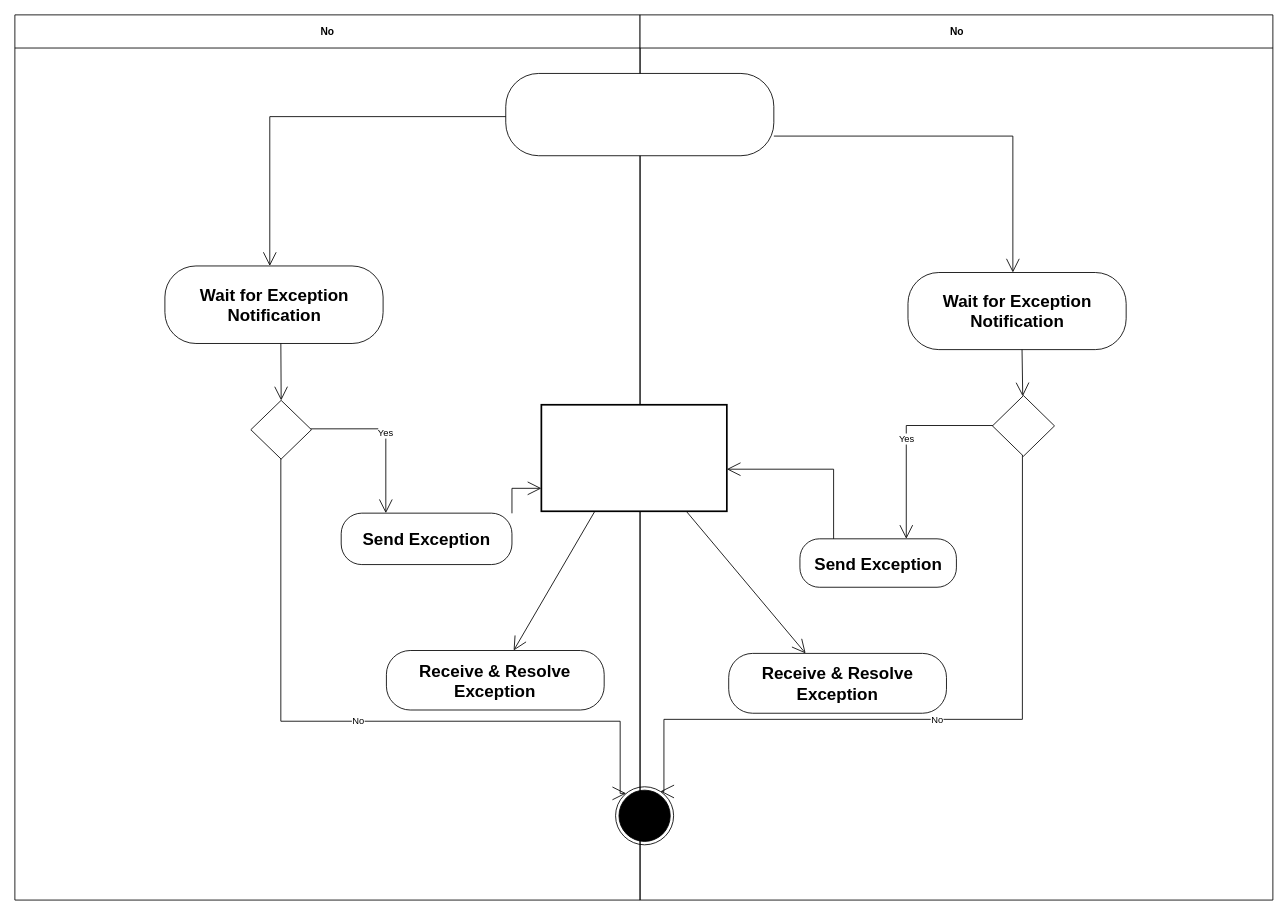
This 1288x915 diagram has some shape labels left out. Each missing label, with the centre of its shape:
"Exception Notification (positive)" goes at point (633, 457).
"Ordering" goes at point (639, 114).
